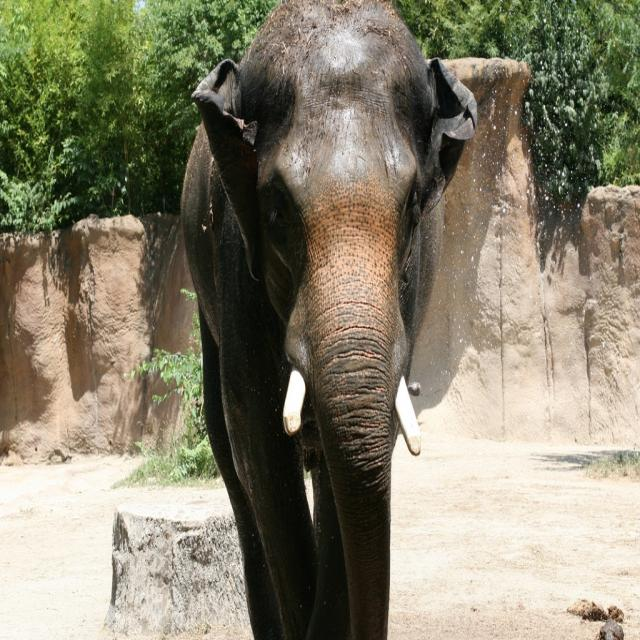Elephant: (180, 1, 478, 640)
